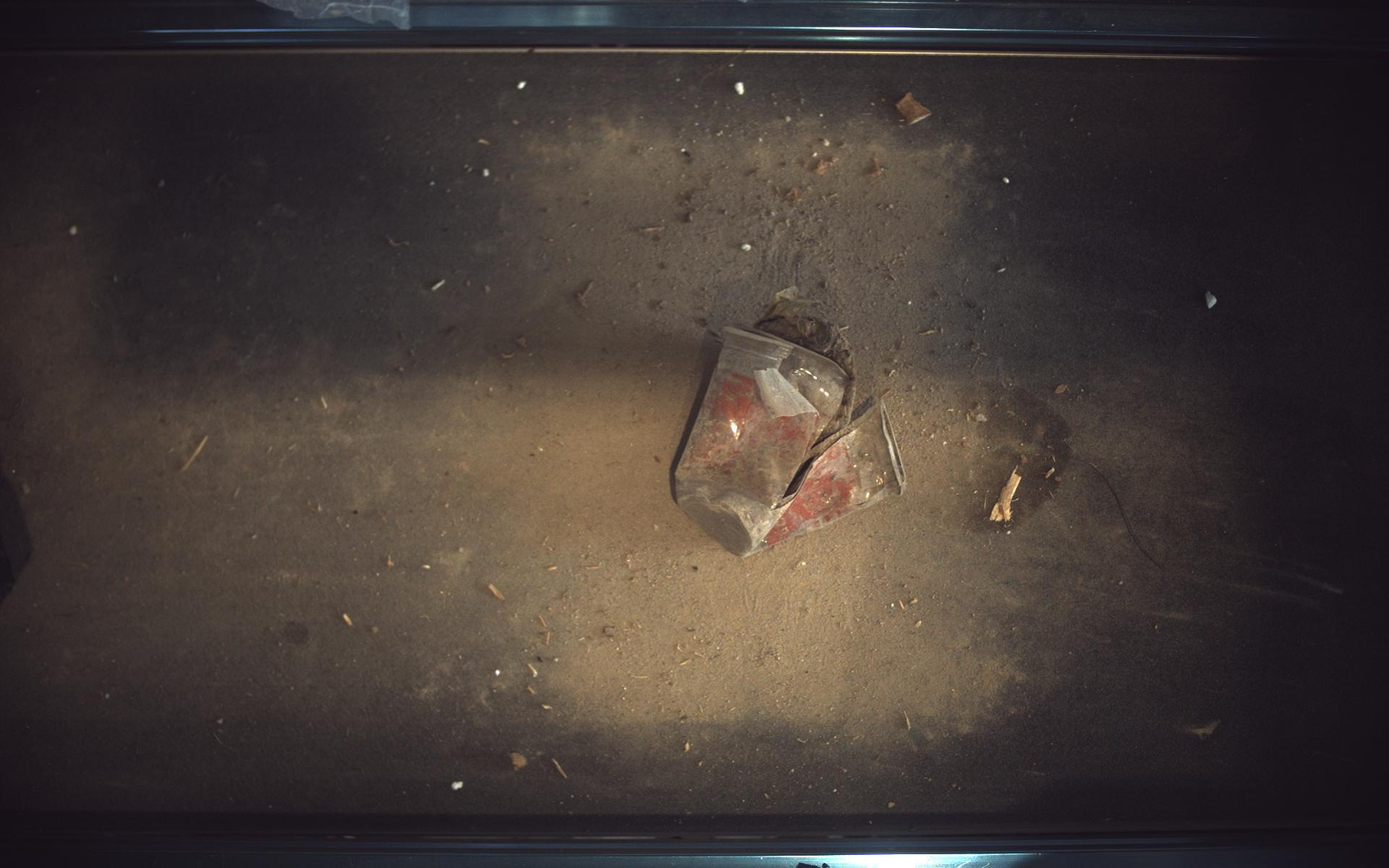general_w: (676, 289, 907, 557)
